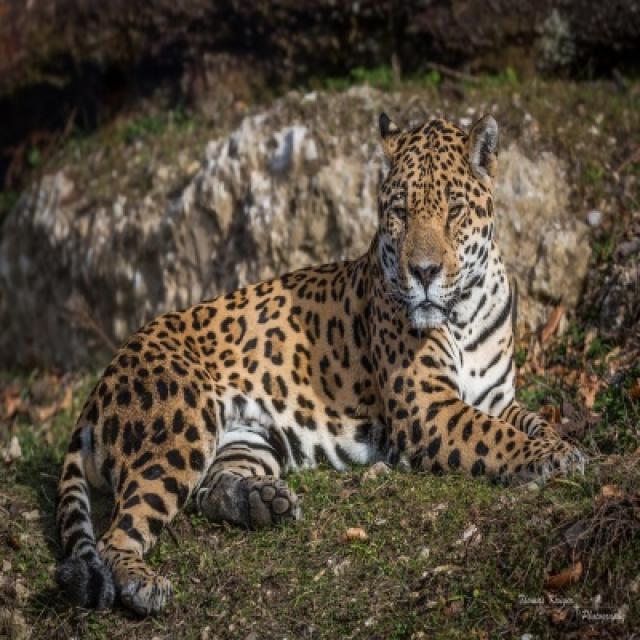Jaguar: (50, 118, 578, 619)
